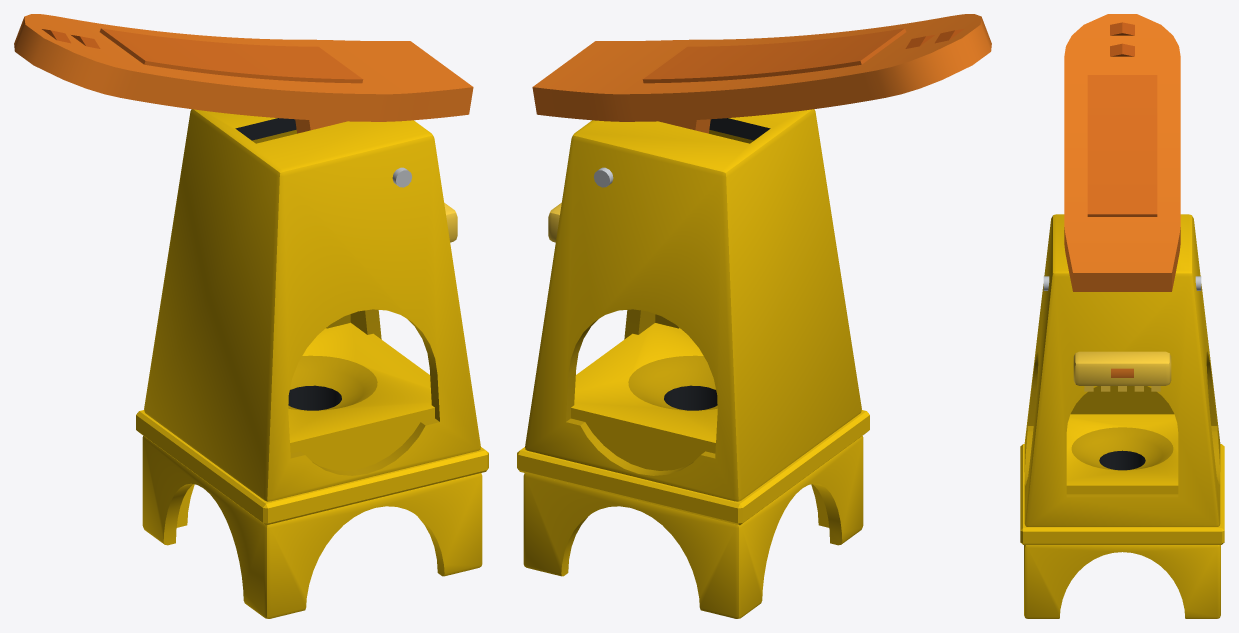
3 renders of one model, left to right at view 1: azimuth 30°, elevation 25°; view 2: azimuth 150°, elevation 25°; view 3: azimuth 270°, elevation 25°, orthographic. The views are drawn at different scales.
Parts seen in each view (by area): view 1: M-01, lever; view 2: M-01, lever; view 3: M-01, lever.
Part boxes in pixels (x1=…): M-01: x1=136, y1=109, x2=488, y2=618; lever: x1=14, y1=14, x2=473, y2=133; M-01: x1=517, y1=109, x2=869, y2=618; lever: x1=532, y1=14, x2=991, y2=133; M-01: x1=1020, y1=214, x2=1224, y2=618; lever: x1=1064, y1=14, x2=1180, y2=291.
Bounding box in the file's own units: 0.0812 × 0.1087 × 0.0439.
